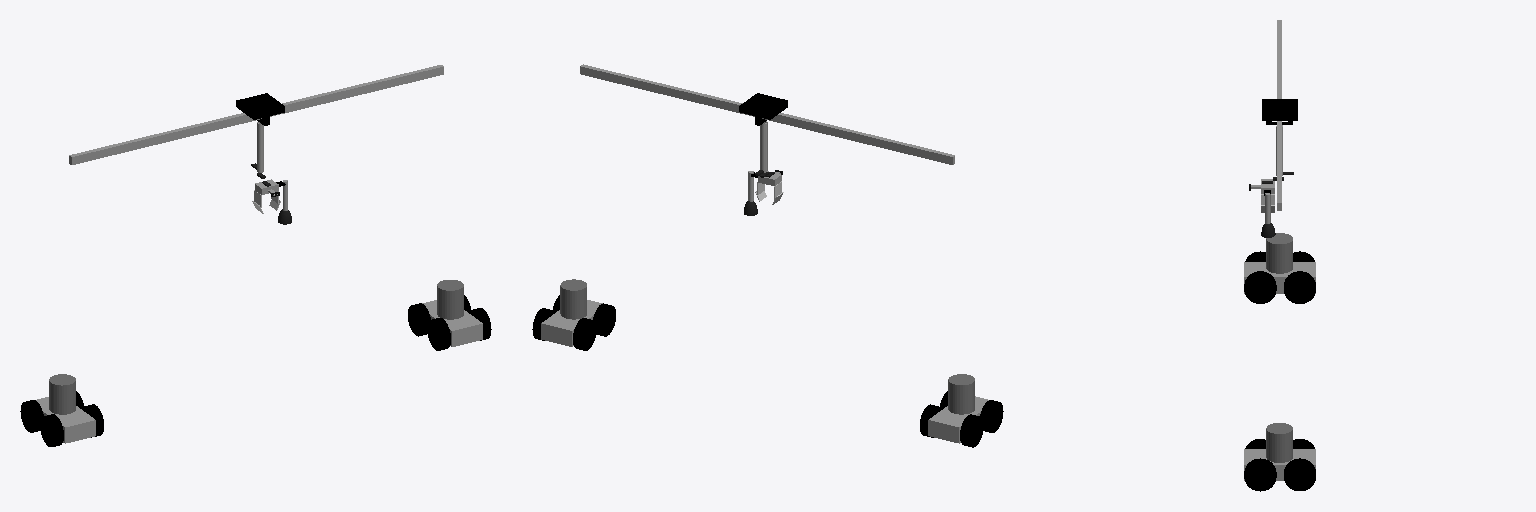
--- What the picture shows (computed from the rendered views, not written in the file) ---
3 views of the same robot in one strip: view 1: azimuth 30°, elevation 25°; view 2: azimuth 150°, elevation 25°; view 3: azimuth 270°, elevation 25° (orthographic).
Robot: bot — 50 links, 49 joints (1 revolute, 10 continuous, 5 prismatic, 33 fixed); root link Untitled.052; default pose: every joint at zero.
Visible links, largest first — view 1: Untitled.052, Untitled.004, Untitled.009, Untitled.046, Untitled.045, Untitled.026, Untitled.008, Untitled.017, Untitled.007, Untitled.011; view 2: Untitled.052, Untitled.004, Untitled.009, Untitled.046, Untitled.045, Untitled.026, Untitled.007, Untitled.011, Untitled.008, Untitled.017; view 3: Untitled.045, Untitled.046, Untitled.005, Untitled.015, Untitled.006, Untitled.013, Untitled.052, Untitled.026, Untitled.004, Untitled.009.
Boxes of the visible links, x1,y1,x2,y2 form: Untitled.052: (69,65,443,164); Untitled.004: (36,397,95,443); Untitled.009: (422,300,482,346); Untitled.046: (49,374,75,414); Untitled.045: (437,280,463,319); Untitled.026: (236,93,284,119); Untitled.008: (40,414,63,446); Untitled.017: (427,318,450,350); Untitled.007: (20,400,43,432); Untitled.011: (408,303,430,336); Untitled.052: (580,64,954,164); Untitled.004: (928,396,988,443); Untitled.009: (541,300,602,346); Untitled.046: (948,374,974,414); Untitled.045: (560,279,586,319); Untitled.026: (739,93,787,119); Untitled.007: (960,414,983,447); Untitled.011: (573,318,596,350); Untitled.008: (980,400,1003,432); Untitled.017: (593,303,615,336); Untitled.045: (1266,423,1292,462); Untitled.046: (1266,233,1292,273); Untitled.005: (1244,271,1276,303); Untitled.015: (1244,458,1276,491); Untitled.006: (1284,271,1315,303); Untitled.013: (1284,458,1315,490); Untitled.052: (1277,20,1281,210); Untitled.026: (1262,99,1297,120); Untitled.004: (1244,262,1315,293); Untitled.009: (1244,449,1315,480).
Size in the robot's own frame: 2.81 by 0.4022 by 1.74 metres.
Meshes: 10 distinct files referenced, 3 mesh visuals loaded (3 binary STL); not drawn: 7 (reference not matched to a file when rendering).

URDF robot description (bot):
<?xml version="1.0"?>
<!-- created with Phobos 1.0.1 "Capricious Choutengan" -->
  <robot name="bot">

    <link name="Untitled">
      <inertial>
        <origin xyz="0 0 0" rpy="0 0 0"/>
        <mass value="0.001"/>
        <inertia ixx="0.001" ixy="0" ixz="0" iyy="0.001" iyz="0" izz="0.001"/>
      </inertial>
    </link>

    <link name="Untitled.001">
      <inertial>
        <origin xyz="0 0 0" rpy="0 0 0"/>
        <mass value="0.001"/>
        <inertia ixx="0.001" ixy="0" ixz="0" iyy="0.001" iyz="0" izz="0.001"/>
      </inertial>
    </link>

    <link name="Untitled.002">
      <inertial>
        <origin xyz="0 0 0" rpy="0 0 0"/>
        <mass value="0.001"/>
        <inertia ixx="0.001" ixy="0" ixz="0" iyy="0.001" iyz="0" izz="0.001"/>
      </inertial>
    </link>

    <link name="Untitled.003">
      <inertial>
        <origin xyz="0 0 0" rpy="0 0 0"/>
        <mass value="0.001"/>
        <inertia ixx="0.001" ixy="0" ixz="0" iyy="0.001" iyz="0" izz="0.001"/>
      </inertial>
    </link>

    <link name="Untitled.004">
      <inertial>
        <origin xyz="0 0 0" rpy="0 0 0"/>
        <mass value="4.0"/>
        <inertia ixx="0.00043" ixy="0" ixz="0" iyy="0.00145" iyz="0" izz="0.06667"/>
      </inertial>
      <visual name="base link.000">
        <origin xyz="0 0 0" rpy="0 0 0"/>
        <geometry>
          <box size="0.4 0.2 0.1"/>
        </geometry>
        <material name="Material.005"/>
      </visual>
      <collision name="base link.000">
        <origin xyz="0 0 0" rpy="0 0 0"/>
        <geometry>
          <box size="0.4 0.2 0.1"/>
        </geometry>
      </collision>
    </link>

    <link name="Untitled.005">
      <inertial>
        <origin xyz="0 0 0" rpy="0 0 0"/>
        <mass value="0.25"/>
        <inertia ixx="7e-05" ixy="0" ixz="0" iyy="0.00013" iyz="0" izz="0.00056"/>
      </inertial>
      <visual name="bl Link.000">
        <origin xyz="-0.0022 0 0" rpy="-3.14159 0 0"/>
        <geometry>
          <cylinder radius="0.09" length="0.05"/>
        </geometry>
        <material name="Material.004"/>
      </visual>
      <collision name="bl Link.000">
        <origin xyz="-0.0022 0 0" rpy="-3.14159 0 0"/>
        <geometry>
          <cylinder radius="0.09" length="0.05"/>
        </geometry>
      </collision>
    </link>

    <link name="Untitled.006">
      <inertial>
        <origin xyz="0 0 0" rpy="0 0 0"/>
        <mass value="0.25"/>
        <inertia ixx="7e-05" ixy="0" ixz="0" iyy="0.00013" iyz="0" izz="0.00056"/>
      </inertial>
      <visual name="bl Link.002.000">
        <origin xyz="-0.0022 0 0" rpy="-3.14159 0 0"/>
        <geometry>
          <cylinder radius="0.09" length="0.05"/>
        </geometry>
        <material name="Material.001"/>
      </visual>
      <collision name="bl Link.002.000">
        <origin xyz="-0.0022 0 0" rpy="-3.14159 0 0"/>
        <geometry>
          <cylinder radius="0.09" length="0.05"/>
        </geometry>
      </collision>
    </link>

    <link name="Untitled.007">
      <inertial>
        <origin xyz="0 0 0" rpy="0 0 0"/>
        <mass value="0.25"/>
        <inertia ixx="7e-05" ixy="0" ixz="0" iyy="0.00013" iyz="0" izz="0.00056"/>
      </inertial>
      <visual name="bl Link.003.000">
        <origin xyz="-0.0022 0 0" rpy="0 0 0"/>
        <geometry>
          <cylinder radius="0.09" length="0.05"/>
        </geometry>
        <material name="Material.002"/>
      </visual>
      <collision name="bl Link.003.000">
        <origin xyz="-0.0022 0 0" rpy="0 0 0"/>
        <geometry>
          <cylinder radius="0.09" length="0.05"/>
        </geometry>
      </collision>
    </link>

    <link name="Untitled.008">
      <inertial>
        <origin xyz="0 0 0" rpy="0 0 0"/>
        <mass value="0.25"/>
        <inertia ixx="7e-05" ixy="0" ixz="0" iyy="0.00013" iyz="0" izz="0.00056"/>
      </inertial>
      <visual name="bl Link.001.000">
        <origin xyz="-0.0022 0 0" rpy="0 0 0"/>
        <geometry>
          <cylinder radius="0.09" length="0.05"/>
        </geometry>
        <material name="Material.003"/>
      </visual>
      <collision name="bl Link.001.000">
        <origin xyz="-0.0022 0 0" rpy="0 0 0"/>
        <geometry>
          <cylinder radius="0.09" length="0.05"/>
        </geometry>
      </collision>
    </link>

    <link name="Untitled.009">
      <inertial>
        <origin xyz="0 0 0" rpy="0 0 0"/>
        <mass value="4.0"/>
        <inertia ixx="0.00043" ixy="0" ixz="0" iyy="0.00145" iyz="0" izz="0.06667"/>
      </inertial>
      <visual name="base link.001">
        <origin xyz="0 0 0" rpy="0 0 0"/>
        <geometry>
          <box size="0.4 0.2 0.1"/>
        </geometry>
        <material name="Material.005"/>
      </visual>
      <collision name="base link.000">
        <origin xyz="0 0 0" rpy="0 0 0"/>
        <geometry>
          <box size="0.4 0.2 0.1"/>
        </geometry>
      </collision>
    </link>

    <link name="Untitled.010">
      <inertial>
        <origin xyz="0 0 0" rpy="0 0 0"/>
        <mass value="0.001"/>
        <inertia ixx="0.001" ixy="0" ixz="0" iyy="0.001" iyz="0" izz="0.001"/>
      </inertial>
    </link>

    <link name="Untitled.011">
      <inertial>
        <origin xyz="0 0 0" rpy="0 0 0"/>
        <mass value="0.25"/>
        <inertia ixx="7e-05" ixy="0" ixz="0" iyy="0.00013" iyz="0" izz="0.00056"/>
      </inertial>
      <visual name="bl Link.003.001">
        <origin xyz="-0.0022 0 0" rpy="0 0 0"/>
        <geometry>
          <cylinder radius="0.09" length="0.05"/>
        </geometry>
        <material name="Material.002"/>
      </visual>
      <collision name="bl Link.003.000">
        <origin xyz="-0.0022 0 0" rpy="0 0 0"/>
        <geometry>
          <cylinder radius="0.09" length="0.05"/>
        </geometry>
      </collision>
    </link>

    <link name="Untitled.012">
      <inertial>
        <origin xyz="0 0 0" rpy="0 0 0"/>
        <mass value="0.001"/>
        <inertia ixx="0.001" ixy="0" ixz="0" iyy="0.001" iyz="0" izz="0.001"/>
      </inertial>
    </link>

    <link name="Untitled.013">
      <inertial>
        <origin xyz="0 0 0" rpy="0 0 0"/>
        <mass value="0.25"/>
        <inertia ixx="7e-05" ixy="0" ixz="0" iyy="0.00013" iyz="0" izz="0.00056"/>
      </inertial>
      <visual name="bl Link.002.001">
        <origin xyz="-0.0022 0 0" rpy="-3.14159 0 0"/>
        <geometry>
          <cylinder radius="0.09" length="0.05"/>
        </geometry>
        <material name="Material.001"/>
      </visual>
      <collision name="bl Link.002.000">
        <origin xyz="-0.0022 0 0" rpy="-3.14159 0 0"/>
        <geometry>
          <cylinder radius="0.09" length="0.05"/>
        </geometry>
      </collision>
    </link>

    <link name="Untitled.014">
      <inertial>
        <origin xyz="0 0 0" rpy="0 0 0"/>
        <mass value="0.001"/>
        <inertia ixx="0.001" ixy="0" ixz="0" iyy="0.001" iyz="0" izz="0.001"/>
      </inertial>
    </link>

    <link name="Untitled.015">
      <inertial>
        <origin xyz="0 0 0" rpy="0 0 0"/>
        <mass value="0.25"/>
        <inertia ixx="7e-05" ixy="0" ixz="0" iyy="0.00013" iyz="0" izz="0.00056"/>
      </inertial>
      <visual name="bl Link.001">
        <origin xyz="-0.0022 0 0" rpy="-3.14159 0 0"/>
        <geometry>
          <cylinder radius="0.09" length="0.05"/>
        </geometry>
        <material name="Material.004"/>
      </visual>
      <collision name="bl Link.000">
        <origin xyz="-0.0022 0 0" rpy="-3.14159 0 0"/>
        <geometry>
          <cylinder radius="0.09" length="0.05"/>
        </geometry>
      </collision>
    </link>

    <link name="Untitled.016">
      <inertial>
        <origin xyz="0 0 0" rpy="0 0 0"/>
        <mass value="0.001"/>
        <inertia ixx="0.001" ixy="0" ixz="0" iyy="0.001" iyz="0" izz="0.001"/>
      </inertial>
    </link>

    <link name="Untitled.017">
      <inertial>
        <origin xyz="0 0 0" rpy="0 0 0"/>
        <mass value="0.25"/>
        <inertia ixx="7e-05" ixy="0" ixz="0" iyy="0.00013" iyz="0" izz="0.00056"/>
      </inertial>
      <visual name="bl Link.001.001">
        <origin xyz="-0.0022 0 0" rpy="0 0 0"/>
        <geometry>
          <cylinder radius="0.09" length="0.05"/>
        </geometry>
        <material name="Material.003"/>
      </visual>
      <collision name="bl Link.001.000">
        <origin xyz="-0.0022 0 0" rpy="0 0 0"/>
        <geometry>
          <cylinder radius="0.09" length="0.05"/>
        </geometry>
      </collision>
    </link>

    <link name="Untitled.021">
      <inertial>
        <origin xyz="0 0 0.01" rpy="0 0 0"/>
        <mass value="0.01"/>
        <inertia ixx="2e-05" ixy="0" ixz="0" iyy="2e-05" iyz="0" izz="2e-05"/>
      </inertial>
      <visual name="Cube.003">
        <origin xyz="0 0 0.01" rpy="0 0 0"/>
        <geometry>
          <box size="0.15 0.03 0.01"/>
        </geometry>
        <material name="Material.009"/>
      </visual>
      <collision name="Cube.003">
        <origin xyz="0 0 0.01" rpy="0 0 0"/>
        <geometry>
          <box size="0.15 0.03 0.01"/>
        </geometry>
      </collision>
    </link>

    <link name="Untitled.022">
      <inertial>
        <origin xyz="0 0 0" rpy="0 0 0"/>
        <mass value="0.05"/>
        <inertia ixx="2e-05" ixy="0" ixz="0" iyy="2e-05" iyz="0" izz="2e-05"/>
      </inertial>
      <visual name="Cube.002">
        <origin xyz="0 0 0" rpy="0 0 0"/>
        <geometry>
          <box size="0.03 0.03 0.06"/>
        </geometry>
        <material name="Material.010"/>
      </visual>
      <collision name="Cube.002">
        <origin xyz="0 0 0" rpy="0 0 0"/>
        <geometry>
          <box size="0.03 0.03 0.06"/>
        </geometry>
      </collision>
    </link>

    <link name="Untitled.023">
      <inertial>
        <origin xyz="0 0 0" rpy="0 0 0"/>
        <mass value="0.05"/>
        <inertia ixx="2e-05" ixy="0" ixz="0" iyy="2e-05" iyz="0" izz="2e-05"/>
      </inertial>
      <visual name="Cube.001">
        <origin xyz="0 0 0" rpy="0 0 0"/>
        <geometry>
          <box size="0.03 0.03 0.06"/>
        </geometry>
        <material name="Material.010"/>
      </visual>
      <collision name="Cube.001">
        <origin xyz="0 0 0" rpy="0 0 0"/>
        <geometry>
          <box size="0.03 0.03 0.06"/>
        </geometry>
      </collision>
    </link>

    <link name="Untitled.024">
      <inertial>
        <origin xyz="0 0 0" rpy="0 0 0"/>
        <mass value="0.001"/>
        <inertia ixx="0.001" ixy="0" ixz="0" iyy="0.001" iyz="0" izz="0.001"/>
      </inertial>
    </link>

    <link name="Untitled.025">
      <inertial>
        <origin xyz="0 0 0" rpy="0 0 0"/>
        <mass value="0.001"/>
        <inertia ixx="0.001" ixy="0" ixz="0" iyy="0.001" iyz="0" izz="0.001"/>
      </inertial>
    </link>

    <link name="Untitled.026">
      <inertial>
        <origin xyz="0 0 0" rpy="0 0 0"/>
        <mass value="0.5"/>
        <inertia ixx="2e-05" ixy="0" ixz="0" iyy="2e-05" iyz="0" izz="2e-05"/>
      </inertial>
      <visual name="Cube">
        <origin xyz="0 0 0" rpy="-1.5708 0 0"/>
        <geometry>
          <box size="0.2 0.2 0.04"/>
        </geometry>
        <material name="Material.008"/>
      </visual>
      <collision name="Cube">
        <origin xyz="0 0 0" rpy="-1.5708 0 0"/>
        <geometry>
          <box size="0.2 0.2 0.04"/>
        </geometry>
      </collision>
    </link>

    <link name="Untitled.027">
      <inertial>
        <origin xyz="0 0 0" rpy="0 0 0"/>
        <mass value="0.5"/>
        <inertia ixx="0.00286" ixy="0" ixz="0" iyy="0.00286" iyz="0" izz="0.0001"/>
      </inertial>
      <visual name="base link">
        <origin xyz="0 0 0" rpy="0 0 0"/>
        <geometry>
          <mesh filename="base link.006.stl" scale="1.0 1.0 1.0"/>
        </geometry>
        <material name="Material.011"/>
      </visual>
      <collision name="base link.000.001.002">
        <origin xyz="0 0.00061 0" rpy="0 0 0"/>
        <geometry>
          <mesh filename="base link.009.stl" scale="1.0 1.0 1.0"/>
        </geometry>
      </collision>
    </link>

    <link name="Untitled.028">
      <inertial>
        <origin xyz="0 0 0.02952" rpy="0 0 0"/>
        <mass value="0.5"/>
        <inertia ixx="0.00377" ixy="0" ixz="0" iyy="0.00377" iyz="0" izz="4e-05"/>
      </inertial>
      <visual name="inner Link">
        <origin xyz="0 0 0.02952" rpy="0 0 0"/>
        <geometry>
          <mesh filename="inner Link.stl" scale="1.0 1.0 1.0"/>
        </geometry>
        <material name="Material.012"/>
      </visual>
      <collision name="inner Link.000">
        <origin xyz="0 0 0.02952" rpy="0 0 0"/>
        <geometry>
          <mesh filename="inner Link.003.stl" scale="1.0 1.0 1.0"/>
        </geometry>
      </collision>
    </link>

    <link name="Untitled.029">
      <inertial>
        <origin xyz="0 0 0" rpy="0 0 0"/>
        <mass value="0.1"/>
        <inertia ixx="2e-05" ixy="0" ixz="0" iyy="2e-05" iyz="0" izz="2e-05"/>
      </inertial>
      <visual name="Cube.004">
        <origin xyz="0 0 0" rpy="0 0 0"/>
        <geometry>
          <box size="0.06 0.026 0.01"/>
        </geometry>
        <material name="Material.013"/>
      </visual>
      <collision name="Cube.004">
        <origin xyz="0 0 0" rpy="0 0 0"/>
        <geometry>
          <box size="0.06 0.026 0.01"/>
        </geometry>
      </collision>
    </link>

    <link name="Untitled.030">
      <inertial>
        <origin xyz="0 0 0" rpy="0 0 0"/>
        <mass value="0.5"/>
        <inertia ixx="0.00286" ixy="0" ixz="0" iyy="0.00286" iyz="0" izz="0.0001"/>
      </inertial>
      <visual name="base link.003">
        <origin xyz="0 0 0" rpy="0 0 0"/>
        <geometry>
          <mesh filename="base link.007.stl" scale="1.0 1.0 1.0"/>
        </geometry>
        <material name="Material.014"/>
      </visual>
      <collision name="base link.003.000">
        <origin xyz="0 0 0" rpy="0 0 0"/>
        <geometry>
          <mesh filename="base link.010.stl" scale="1.0 1.0 1.0"/>
        </geometry>
      </collision>
    </link>

    <link name="Untitled.031">
      <inertial>
        <origin xyz="0 0 0" rpy="0 0 0"/>
        <mass value="0.5"/>
        <inertia ixx="0.00377" ixy="0" ixz="0" iyy="0.00377" iyz="0" izz="4e-05"/>
      </inertial>
      <visual name="inner Link.001">
        <origin xyz="0 0 0" rpy="0 0 0"/>
        <geometry>
          <mesh filename="inner Link.001.stl" scale="1.0 1.0 1.0"/>
        </geometry>
        <material name="Material.015"/>
      </visual>
      <collision name="inner Link.001.000">
        <origin xyz="0 0 0" rpy="0 0 0"/>
        <geometry>
          <mesh filename="inner Link.004.stl" scale="1.0 1.0 1.0"/>
        </geometry>
      </collision>
    </link>

    <link name="Untitled.032">
      <inertial>
        <origin xyz="0 0 0" rpy="0 0 0"/>
        <mass value="0.1"/>
        <inertia ixx="2e-05" ixy="0" ixz="0" iyy="2e-05" iyz="0" izz="2e-05"/>
      </inertial>
      <visual name="Cube.005">
        <origin xyz="0 0 0" rpy="0 0 0"/>
        <geometry>
          <box size="0.06 0.026 0.01"/>
        </geometry>
        <material name="Material.016"/>
      </visual>
      <collision name="Cube.005">
        <origin xyz="0 0 0" rpy="0 0 0"/>
        <geometry>
          <box size="0.06 0.026 0.01"/>
        </geometry>
      </collision>
    </link>

    <link name="Untitled.033">
      <inertial>
        <origin xyz="0 0 0" rpy="0 0 0"/>
        <mass value="0.5"/>
        <inertia ixx="0.00286" ixy="0" ixz="0" iyy="0.00286" iyz="0" izz="0.0001"/>
      </inertial>
      <visual name="base link.004">
        <origin xyz="0 0 0" rpy="0 0 0"/>
        <geometry>
          <mesh filename="base link.008.stl" scale="1.0 1.0 1.0"/>
        </geometry>
        <material name="Material.017"/>
      </visual>
      <collision name="base link.004.000">
        <origin xyz="0 0 0" rpy="0 0 0"/>
        <geometry>
          <mesh filename="base link.011.stl" scale="1.0 1.0 1.0"/>
        </geometry>
      </collision>
    </link>

    <link name="Untitled.034">
      <inertial>
        <origin xyz="0 0 0" rpy="0 0 0"/>
        <mass value="0.5"/>
        <inertia ixx="0.00377" ixy="0" ixz="0" iyy="0.00377" iyz="0" izz="4e-05"/>
      </inertial>
      <visual name="inner Link.002">
        <origin xyz="0 0 0" rpy="0 0 0"/>
        <geometry>
          <mesh filename="inner Link.002.stl" scale="1.0 1.0 1.0"/>
        </geometry>
        <material name="Material.018"/>
      </visual>
      <collision name="inner Link.002.000">
        <origin xyz="0 0 0" rpy="0 0 0"/>
        <geometry>
          <mesh filename="inner Link.005.stl" scale="1.0 1.0 1.0"/>
        </geometry>
      </collision>
    </link>

    <link name="Untitled.035">
      <inertial>
        <origin xyz="0 0 0" rpy="0 0 0"/>
        <mass value="0.1"/>
        <inertia ixx="2e-05" ixy="0" ixz="0" iyy="2e-05" iyz="0" izz="2e-05"/>
      </inertial>
      <visual name="Cube.006">
        <origin xyz="0 0 0" rpy="0 0 0"/>
        <geometry>
          <box size="0.06 0.026 0.01"/>
        </geometry>
        <material name="Material.019"/>
      </visual>
      <collision name="Cube.006">
        <origin xyz="0 0 0" rpy="0 0 0"/>
        <geometry>
          <box size="0.06 0.026 0.01"/>
        </geometry>
      </collision>
    </link>

    <link name="Untitled.036">
      <inertial>
        <origin xyz="0 0 0" rpy="0 0 0"/>
        <mass value="0.3"/>
        <inertia ixx="2e-05" ixy="0" ixz="0" iyy="2e-05" iyz="0" izz="2e-05"/>
      </inertial>
      <visual name="Cube.007">
        <origin xyz="0 0 0" rpy="0 0 0"/>
        <geometry>
          <box size="0.08 0.11 0.04"/>
        </geometry>
        <material name="Material.020"/>
      </visual>
      <collision name="Cube.007">
        <origin xyz="0 0 0" rpy="0 0 0"/>
        <geometry>
          <box size="0.06 0.055 0.04"/>
        </geometry>
      </collision>
    </link>

    <link name="Untitled.037">
      <inertial>
        <origin xyz="0 0 0" rpy="0 0 0"/>
        <mass value="0.01"/>
        <inertia ixx="2e-05" ixy="0" ixz="0" iyy="2e-05" iyz="0" izz="2e-05"/>
      </inertial>
      <visual name="Cube.009">
        <origin xyz="0 0 0" rpy="0 0 0"/>
        <geometry>
          <box size="0.08 0.005 0.06"/>
        </geometry>
        <material name="Material.021"/>
      </visual>
      <collision name="Cube.009">
        <origin xyz="0 0 0" rpy="0 0 0"/>
        <geometry>
          <box size="0.08 0.005 0.06"/>
        </geometry>
      </collision>
    </link>

    <link name="Untitled.038">
      <inertial>
        <origin xyz="0 0 0" rpy="0 0 0"/>
        <mass value="0.05"/>
        <inertia ixx="2e-05" ixy="0" ixz="0" iyy="2e-05" iyz="0" izz="2e-05"/>
      </inertial>
      <visual name="Cube.008">
        <origin xyz="0 0 0" rpy="-1.5708 0 0"/>
        <geometry>
          <box size="0.08 0.005 0.08"/>
        </geometry>
        <material name="Material.022"/>
      </visual>
      <collision name="Cube.008">
        <origin xyz="0 0 0" rpy="-1.5708 0 0"/>
        <geometry>
          <box size="0.08 0.005 0.08"/>
        </geometry>
      </collision>
    </link>

    <link name="Untitled.039">
      <inertial>
        <origin xyz="0 0 0" rpy="0 0 0"/>
        <mass value="0.01"/>
        <inertia ixx="2e-05" ixy="0" ixz="0" iyy="2e-05" iyz="0" izz="2e-05"/>
      </inertial>
      <visual name="Cube.011">
        <origin xyz="0 0 0" rpy="0 0 0"/>
        <geometry>
          <box size="0.08 0.005 0.06"/>
        </geometry>
        <material name="Material.024"/>
      </visual>
      <collision name="Cube.011">
        <origin xyz="0 0 0" rpy="0 0 0"/>
        <geometry>
          <box size="0.08 0.005 0.06"/>
        </geometry>
      </collision>
    </link>

    <link name="Untitled.040">
      <inertial>
        <origin xyz="0 0 0" rpy="0 0 0"/>
        <mass value="0.05"/>
        <inertia ixx="2e-05" ixy="0" ixz="0" iyy="2e-05" iyz="0" izz="2e-05"/>
      </inertial>
      <visual name="Cube.010">
        <origin xyz="0 0 0" rpy="1.5708 0 0"/>
        <geometry>
          <box size="0.08 0.005 0.08"/>
        </geometry>
        <material name="Material.023"/>
      </visual>
      <collision name="Cube.010">
        <origin xyz="0 0 0" rpy="1.5708 0 0"/>
        <geometry>
          <box size="0.08 0.005 0.08"/>
        </geometry>
      </collision>
    </link>

    <link name="Untitled.041">
      <inertial>
        <origin xyz="0 0 0" rpy="0 0 0"/>
        <mass value="0.005"/>
        <inertia ixx="2e-05" ixy="0" ixz="0" iyy="2e-05" iyz="0" izz="2e-05"/>
      </inertial>
      <visual name="Cube.012.000">
        <origin xyz="0 0 0" rpy="0 0 0"/>
        <geometry>
          <box size="0.06 0.026 0.01"/>
        </geometry>
        <material name="Material.025"/>
      </visual>
      <collision name="Cube.012.000">
        <origin xyz="0 0 0" rpy="0 0 0"/>
        <geometry>
          <box size="0.06 0.026 0.01"/>
        </geometry>
      </collision>
    </link>

    <link name="Untitled.042">
      <inertial>
        <origin xyz="0 0 0.01" rpy="0 0 0"/>
        <mass value="0.005"/>
        <inertia ixx="2e-05" ixy="0" ixz="0" iyy="2e-05" iyz="0" izz="2e-05"/>
      </inertial>
      <visual name="Cube.013">
        <origin xyz="0 0 0.01" rpy="-1.5708 0 -1.5708"/>
        <geometry>
          <box size="0.02 0.05 0.01"/>
        </geometry>
        <material name="Material.026"/>
      </visual>
      <collision name="Cube.013">
        <origin xyz="0 0 0.01" rpy="-1.5708 0 -1.5708"/>
        <geometry>
          <box size="0.02 0.05 0.01"/>
        </geometry>
      </collision>
    </link>

    <link name="Untitled.043">
      <inertial>
        <origin xyz="0 0 0" rpy="0 0 0"/>
        <mass value="0.001"/>
        <inertia ixx="0.001" ixy="0" ixz="0" iyy="0.001" iyz="0" izz="0.001"/>
      </inertial>
      <visual name="Cylinder.001">
        <origin xyz="0 0 0" rpy="0 0 0"/>
        <geometry>
          <cylinder radius="0.005" length="0.01"/>
        </geometry>
        <material name="Material.027"/>
      </visual>
    </link>

    <link name="Untitled.044">
      <inertial>
        <origin xyz="0 0 0" rpy="0 0 0"/>
        <mass value="0.001"/>
        <inertia ixx="0.001" ixy="0" ixz="0" iyy="0.001" iyz="0" izz="0.001"/>
      </inertial>
      <visual name="Cylinder">
        <origin xyz="0 0 0" rpy="0 0 0"/>
        <geometry>
          <cylinder radius="0.005" length="0.01"/>
        </geometry>
        <material name="Material.027"/>
      </visual>
    </link>

    <link name="Untitled.045">
      <inertial>
        <origin xyz="0 0 0" rpy="0 0 0"/>
        <mass value="1.0"/>
        <inertia ixx="2e-05" ixy="0" ixz="0" iyy="1e-05" iyz="0" izz="3e-05"/>
      </inertial>
      <visual name="Cylinder.003">
        <origin xyz="0 0 0" rpy="0 0 0"/>
        <geometry>
          <cylinder radius="0.075" length="0.18"/>
        </geometry>
        <material name="Material.028"/>
      </visual>
      <collision name="Cylinder.003">
        <origin xyz="0 0 0" rpy="0 0 0"/>
        <geometry>
          <cylinder radius="0.075" length="0.18"/>
        </geometry>
      </collision>
    </link>

    <link name="Untitled.046">
      <inertial>
        <origin xyz="0 0 0" rpy="0 0 0"/>
        <mass value="1.0"/>
        <inertia ixx="2e-05" ixy="0" ixz="0" iyy="2e-05" iyz="0" izz="2e-05"/>
      </inertial>
      <visual name="Cylinder.002">
        <origin xyz="0 0 0" rpy="0 0 0"/>
        <geometry>
          <cylinder radius="0.075" length="0.18"/>
        </geometry>
        <material name="Material.028"/>
      </visual>
      <collision name="Cylinder.002.000">
        <origin xyz="0 0 0" rpy="0 0 0"/>
        <geometry>
          <mesh filename="Cylinder.020.stl" scale="1.0 1.0 1.0"/>
        </geometry>
      </collision>
    </link>

    <link name="Untitled.047">
      <inertial>
        <origin xyz="0 0 0" rpy="0 0 0"/>
        <mass value="0.01"/>
        <inertia ixx="2e-05" ixy="0" ixz="0" iyy="2e-05" iyz="0" izz="2e-05"/>
      </inertial>
      <visual name="Cube.012">
        <origin xyz="0 0 0" rpy="0 0 0"/>
        <geometry>
          <box size="0.04 0.06 0.01"/>
        </geometry>
        <material name="Material.032"/>
      </visual>
      <collision name="Cube.012">
        <origin xyz="0 0 0" rpy="0 0 0"/>
        <geometry>
          <box size="0.04 0.06 0.01"/>
        </geometry>
      </collision>
    </link>

    <link name="Untitled.048">
      <inertial>
        <origin xyz="0 -0.09 0.01" rpy="0 0 0"/>
        <mass value="0.01"/>
        <inertia ixx="2e-05" ixy="0" ixz="0" iyy="2e-05" iyz="0" izz="2e-05"/>
      </inertial>
      <visual name="Cylinder.004">
        <origin xyz="0 -0.09 0.01" rpy="-1.5708 0 0"/>
        <geometry>
          <cylinder radius="0.015" length="0.2"/>
        </geometry>
        <material name="Material.033"/>
      </visual>
      <collision name="Cylinder.004.000">
        <origin xyz="0 -0.09 0.01" rpy="-1.5708 0 0"/>
        <geometry>
          <mesh filename="Cylinder.014.stl" scale="1.0 1.0 1.0"/>
        </geometry>
      </collision>
    </link>

    <link name="Untitled.049">
      <inertial>
        <origin xyz="0 0 0" rpy="0 0 0"/>
        <mass value="0.01"/>
        <inertia ixx="2e-05" ixy="0" ixz="0" iyy="2e-05" iyz="0" izz="2e-05"/>
      </inertial>
      <visual name="Half Sphere 2">
        <origin xyz="0 0 0" rpy="0 0 0"/>
        <geometry>
          <mesh filename="Half Sphere 2.stl" scale="0.01303 0.02605 0.01303"/>
        </geometry>
        <material name="Material.034"/>
      </visual>
      <collision name="Half Sphere 2.000">
        <origin xyz="0 0 0" rpy="0 0 0"/>
        <geometry>
          <mesh filename="Half Sphere 2.001.stl" scale="1.0 1.0 1.0"/>
        </geometry>
      </collision>
    </link>

    <link name="Untitled.050">
      <inertial>
        <origin xyz="0 0 -0.74" rpy="0 0 0"/>
        <mass value="2.0"/>
        <inertia ixx="0.54185" ixy="0" ixz="0" iyy="0.54185" iyz="0" izz="0.00176"/>
      </inertial>
      <visual name="vertical rod.001">
        <origin xyz="0 0 -0.74" rpy="1.5708 0 0"/>
        <geometry>
          <mesh filename="vertical rod.001.stl" scale="1.0 1.0 1.0"/>
        </geometry>
        <material name="Material.029"/>
      </visual>
      <collision name="vertical rod.001.000">
        <origin xyz="0 0 -0.74" rpy="1.5708 0 0"/>
        <geometry>
          <mesh filename="vertical rod.002.stl" scale="1.0 1.0 1.0"/>
        </geometry>
      </collision>
    </link>

    <link name="Untitled.051">
      <inertial>
        <origin xyz="0 0 -0.74" rpy="0 0 0"/>
        <mass value="2.0"/>
        <inertia ixx="0.54185" ixy="0" ixz="0" iyy="0.54185" iyz="0" izz="0.00176"/>
      </inertial>
      <visual name="vertical rod">
        <origin xyz="0 0 -0.74" rpy="1.5708 0 0"/>
        <geometry>
          <mesh filename="vertical rod.stl" scale="1.0 1.0 1.0"/>
        </geometry>
        <material name="Material.031"/>
      </visual>
      <collision name="vertical rod.000">
        <origin xyz="0 0 -0.74" rpy="1.5708 0 0"/>
        <geometry>
          <mesh filename="vertical rod.003.stl" scale="1.0 1.0 1.0"/>
        </geometry>
      </collision>
    </link>

    <link name="Untitled.052">
      <inertial>
        <origin xyz="0 0 0" rpy="0 0 0"/>
        <mass value="2.0"/>
        <inertia ixx="1.00174" ixy="0" ixz="0" iyy="0.00057" iyz="0" izz="0.92057"/>
      </inertial>
      <visual name="horizantal rod">
        <origin xyz="0 0 0" rpy="0 0 0"/>
        <geometry>
          <mesh filename="horizantal rod.stl" scale="1.02128 1.0 1.0"/>
        </geometry>
        <material name="Material.030"/>
      </visual>
      <collision name="horizantal rod.000">
        <origin xyz="0 0 0" rpy="0 0 0"/>
        <geometry>
          <mesh filename="horizantal rod.001.stl" scale="1.0 1.0 1.0"/>
        </geometry>
      </collision>
    </link>

    <joint name="Untitled" type="fixed">
      <origin xyz="-0.11 0.06 0" rpy="1.5708 0 0"/>
      <parent link="Untitled.004"/>
      <child link="Untitled"/>
    </joint>

    <joint name="Untitled.001" type="fixed">
      <origin xyz="-0.11 -0.06 0" rpy="-1.5708 0 0"/>
      <parent link="Untitled.004"/>
      <child link="Untitled.001"/>
    </joint>

    <joint name="Untitled.002" type="fixed">
      <origin xyz="0.11 0.06 0" rpy="1.5708 0 0"/>
      <parent link="Untitled.004"/>
      <child link="Untitled.002"/>
    </joint>

    <joint name="Untitled.003" type="fixed">
      <origin xyz="0.11 -0.06 0" rpy="-1.5708 0 0"/>
      <parent link="Untitled.004"/>
      <child link="Untitled.003"/>
    </joint>

    <joint name="Untitled.004" type="fixed">
      <origin xyz="0 0 -1.575" rpy="0 0 0"/>
      <parent link="Untitled.051"/>
      <child link="Untitled.004"/>
    </joint>

    <joint name="Untitled.005" type="continuous">
      <origin xyz="0 0 -0.07" rpy="3.14159 0 0"/>
      <parent link="Untitled.002"/>
      <child link="Untitled.005"/>
      <axis xyz="0 0 1.0"/>
      <limit effort="0.1" velocity="1.5"/>
    </joint>

    <joint name="Untitled.006" type="continuous">
      <origin xyz="0 0 -0.07" rpy="3.14159 0 0"/>
      <parent link="Untitled"/>
      <child link="Untitled.006"/>
      <axis xyz="0 0 1.0"/>
      <limit effort="0.1" velocity="1.5"/>
    </joint>

    <joint name="Untitled.007" type="continuous">
      <origin xyz="0 0 -0.07" rpy="-3.14159 0 0"/>
      <parent link="Untitled.001"/>
      <child link="Untitled.007"/>
      <axis xyz="0 0 1.0"/>
      <limit effort="0.1" velocity="1.5"/>
    </joint>

    <joint name="Untitled.008" type="continuous">
      <origin xyz="0 0 -0.07" rpy="-3.14159 0 0"/>
      <parent link="Untitled.003"/>
      <child link="Untitled.008"/>
      <axis xyz="0 0 1.0"/>
      <limit effort="0.1" velocity="1.5"/>
    </joint>

    <joint name="Untitled.009" type="fixed">
      <origin xyz="0 -0.005 -1.5626" rpy="0 0 0"/>
      <parent link="Untitled.050"/>
      <child link="Untitled.009"/>
    </joint>

    <joint name="Untitled.010" type="fixed">
      <origin xyz="-0.11 -0.06 0" rpy="-1.5708 0 0"/>
      <parent link="Untitled.009"/>
      <child link="Untitled.010"/>
    </joint>

    <joint name="Untitled.011" type="continuous">
      <origin xyz="0 0 -0.07" rpy="-3.14159 0 0"/>
      <parent link="Untitled.010"/>
      <child link="Untitled.011"/>
      <axis xyz="0 0 1.0"/>
      <limit effort="0.1" velocity="1.5"/>
    </joint>

    <joint name="Untitled.012" type="fixed">
      <origin xyz="-0.11 0.06 0" rpy="1.5708 0 0"/>
      <parent link="Untitled.009"/>
      <child link="Untitled.012"/>
    </joint>

    <joint name="Untitled.013" type="continuous">
      <origin xyz="0 0 -0.07" rpy="3.14159 0 0"/>
      <parent link="Untitled.012"/>
      <child link="Untitled.013"/>
      <axis xyz="0 0 1.0"/>
      <limit effort="0.1" velocity="1.5"/>
    </joint>

    <joint name="Untitled.014" type="fixed">
      <origin xyz="0.11 0.06 0" rpy="1.5708 0 0"/>
      <parent link="Untitled.009"/>
      <child link="Untitled.014"/>
    </joint>

    <joint name="Untitled.015" type="continuous">
      <origin xyz="0 0 -0.07" rpy="3.14159 0 0"/>
      <parent link="Untitled.014"/>
      <child link="Untitled.015"/>
      <axis xyz="0 0 1.0"/>
      <limit effort="0.1" velocity="1.5"/>
    </joint>

    <joint name="Untitled.016" type="fixed">
      <origin xyz="0.11 -0.06 0" rpy="-1.5708 0 0"/>
      <parent link="Untitled.009"/>
      <child link="Untitled.016"/>
    </joint>

    <joint name="Untitled.017" type="continuous">
      <origin xyz="0 0 -0.07" rpy="-3.14159 0 0"/>
      <parent link="Untitled.016"/>
      <child link="Untitled.017"/>
      <axis xyz="0 0 1.0"/>
      <limit effort="0.1" velocity="1.5"/>
    </joint>

    <joint name="Untitled.021" type="fixed">
      <origin xyz="0.06656 -0.00819 -0.00718" rpy="0 0 0"/>
      <parent link="Untitled.024"/>
      <child link="Untitled.021"/>
    </joint>

    <joint name="Untitled.022" type="fixed">
      <origin xyz="-0.06 -0.05371 0" rpy="-1.5708 0 0"/>
      <parent link="Untitled.026"/>
      <child link="Untitled.022"/>
    </joint>

    <joint name="Untitled.023" type="fixed">
      <origin xyz="0.06 -0.05371 0" rpy="-1.5708 0 0"/>
      <parent link="Untitled.026"/>
      <child link="Untitled.023"/>
    </joint>

    <joint name="Untitled.024" type="fixed">
      <origin xyz="-0.00656 0.00819 -0.03142" rpy="0 0 0"/>
      <parent link="Untitled.022"/>
      <child link="Untitled.024"/>
    </joint>

    <joint name="Untitled.025" type="fixed">
      <origin xyz="0.00237 -0.00899 -0.03609" rpy="0 0 0"/>
      <parent link="Untitled.023"/>
      <child link="Untitled.025"/>
    </joint>

    <joint name="Untitled.026" type="prismatic">
      <origin xyz="0.025 0 0.04555" rpy="1.5708 0 -1.5708"/>
      <parent link="Untitled.052"/>
      <child link="Untitled.026"/>
      <axis xyz="0 0 1.0"/>
      <limit lower="-1.2931" upper="1.29" effort="0.1" velocity="1.0"/>
    </joint>

    <joint name="Untitled.027" type="fixed">
      <origin xyz="0.00656 -0.00819 -0.15126" rpy="0 0 0"/>
      <parent link="Untitled.024"/>
      <child link="Untitled.027"/>
    </joint>

    <joint name="Untitled.028" type="prismatic">
      <origin xyz="0 0 -0.02468" rpy="0 0 0"/>
      <parent link="Untitled.027"/>
      <child link="Untitled.028"/>
      <axis xyz="0 0 1.0"/>
      <limit lower="-1.2931" upper="1.29" effort="0.1" velocity="1.0"/>
    </joint>

    <joint name="Untitled.029" type="fixed">
      <origin xyz="0.01 0 -0.12848" rpy="0 0 0"/>
      <parent link="Untitled.028"/>
      <child link="Untitled.029"/>
    </joint>

    <joint name="Untitled.030" type="fixed">
      <origin xyz="0.05 0 0.14075" rpy="0 0 0"/>
      <parent link="Untitled.029"/>
      <child link="Untitled.030"/>
    </joint>

    <joint name="Untitled.031" type="prismatic">
      <origin xyz="0 0 -0.02247" rpy="0 0 0"/>
      <parent link="Untitled.030"/>
      <child link="Untitled.031"/>
      <axis xyz="0 0 1.0"/>
      <limit lower="-1.2931" upper="1.29" effort="0.1" velocity="1.0"/>
    </joint>

    <joint name="Untitled.032" type="fixed">
      <origin xyz="0.00738 0.0014 -0.1528" rpy="0 0 0"/>
      <parent link="Untitled.031"/>
      <child link="Untitled.032"/>
    </joint>

    <joint name="Untitled.033" type="fixed">
      <origin xyz="0.05262 -0.0014 0.13993" rpy="0 0 0"/>
      <parent link="Untitled.032"/>
      <child link="Untitled.033"/>
    </joint>

    <joint name="Untitled.034" type="prismatic">
      <origin xyz="0 0 -0.01" rpy="0 0 0"/>
      <parent link="Untitled.033"/>
      <child link="Untitled.034"/>
      <axis xyz="0 0 1.0"/>
      <limit lower="-1.2931" upper="1.29" effort="0.1" velocity="1.0"/>
    </joint>

    <joint name="Untitled.035" type="fixed">
      <origin xyz="0.00989 -0.00047 -0.15397" rpy="0 0 0"/>
      <parent link="Untitled.034"/>
      <child link="Untitled.035"/>
    </joint>

    <joint name="Untitled.036" type="continuous">
      <origin xyz="-0.00332 0.00214 -0.02292" rpy="0 0 0"/>
      <parent link="Untitled.035"/>
      <child link="Untitled.036"/>
      <axis xyz="0 0 1.0"/>
      <limit effort="0.1" velocity="1.0"/>
    </joint>

    <joint name="Untitled.037" type="fixed">
      <origin xyz="0 -0.05 0" rpy="-1.13446 0 0"/>
      <parent link="Untitled.038"/>
      <child link="Untitled.037"/>
    </joint>

    <joint name="Untitled.038" type="fixed">
      <origin xyz="0 -0.055 -0.06044" rpy="1.5708 0 0"/>
      <parent link="Untitled.036"/>
      <child link="Untitled.038"/>
    </joint>

    <joint name="Untitled.039" type="fixed">
      <origin xyz="0 0.05 0" rpy="1.13446 0 0"/>
      <parent link="Untitled.040"/>
      <child link="Untitled.039"/>
    </joint>

    <joint name="Untitled.040" type="prismatic">
      <origin xyz="0 0.055 -0.06044" rpy="-1.5708 0 0"/>
      <parent link="Untitled.036"/>
      <child link="Untitled.040"/>
      <axis xyz="0 0 1.0"/>
      <limit lower="-1.2931" upper="1.29" effort="0.1" velocity="1.0"/>
    </joint>

    <joint name="Untitled.041" type="fixed">
      <origin xyz="0.07032 -0.00214 -0.00337" rpy="0 0 0"/>
      <parent link="Untitled.036"/>
      <child link="Untitled.041"/>
    </joint>

    <joint name="Untitled.042" type="revolute">
      <origin xyz="0.03 0.01 0.00027" rpy="1.5708 0 0"/>
      <parent link="Untitled.041"/>
      <child link="Untitled.042"/>
      <axis xyz="0 0 1.0"/>
      <limit lower="-1.57" upper="0" effort="0.01" velocity="0.1"/>
    </joint>

    <joint name="Untitled.043" type="fixed">
      <origin xyz="0.002 0 0.02" rpy="-1.5708 0 -1.5708"/>
      <parent link="Untitled.042"/>
      <child link="Untitled.043"/>
    </joint>

    <joint name="Untitled.044" type="fixed">
      <origin xyz="0.002 0 0" rpy="-1.5708 0 -1.5708"/>
      <parent link="Untitled.042"/>
      <child link="Untitled.044"/>
    </joint>

    <joint name="Untitled.045" type="fixed">
      <origin xyz="0 0.005 0.1376" rpy="0 0 0"/>
      <parent link="Untitled.009"/>
      <child link="Untitled.045"/>
    </joint>

    <joint name="Untitled.046" type="fixed">
      <origin xyz="0 0 0.15" rpy="0 0 0"/>
      <parent link="Untitled.004"/>
      <child link="Untitled.046"/>
    </joint>

    <joint name="Untitled.047" type="fixed">
      <origin xyz="0 0.08 0" rpy="0 0 0"/>
      <parent link="Untitled.036"/>
      <child link="Untitled.047"/>
    </joint>

    <joint name="Untitled.048" type="continuous">
      <origin xyz="0 0.05 0.00301" rpy="1.5708 0 0"/>
      <parent link="Untitled.047"/>
      <child link="Untitled.048"/>
      <axis xyz="0 0 1.0"/>
      <limit effort="0.01" velocity="0.1"/>
    </joint>

    <joint name="Untitled.049" type="fixed">
      <origin xyz="-0.00292 -0.20261 0.01" rpy="3.14159 0 -0.01439"/>
      <parent link="Untitled.048"/>
      <child link="Untitled.049"/>
    </joint>

    <joint name="Untitled.050" type="fixed">
      <origin xyz="1.25 0 -0.005" rpy="0 0 -1.5708"/>
      <parent link="Untitled.052"/>
      <child link="Untitled.050"/>
    </joint>

    <joint name="Untitled.051" type="fixed">
      <origin xyz="-1.25 0 -0.005" rpy="0 0 -1.5708"/>
      <parent link="Untitled.052"/>
      <child link="Untitled.051"/>
    </joint>

    <material name="Material.001">
      <color rgba="0 0 0 1.0"/>
    </material>

    <material name="Material.002">
      <color rgba="0 0 0 1.0"/>
    </material>

    <material name="Material.003">
      <color rgba="0 0 0 1.0"/>
    </material>

    <material name="Material.004">
      <color rgba="0 0 0 1.0"/>
    </material>

    <material name="Material.005">
      <color rgba="0.64 0.64 0.64 1.0"/>
    </material>

    <material name="Material.008">
      <color rgba="0 0 0 1.0"/>
    </material>

    <material name="Material.009">
      <color rgba="0 0 0 1.0"/>
    </material>

    <material name="Material.010">
      <color rgba="0 0 0 1.0"/>
    </material>

    <material name="Material.011">
      <color rgba="0.64 0.64 0.64 1.0"/>
    </material>

    <material name="Material.012">
      <color rgba="0.16 0.16 0.16 1.0"/>
    </material>

    <material name="Material.013">
      <color rgba="0.16 0.16 0.16 1.0"/>
    </material>

    <material name="Material.014">
      <color rgba="0.64 0.64 0.64 1.0"/>
    </material>

    <material name="Material.015">
      <color rgba="0.16 0.16 0.16 1.0"/>
    </material>

    <material name="Material.016">
      <color rgba="0.16 0.16 0.16 1.0"/>
    </material>

    <material name="Material.017">
      <color rgba="0.64 0.64 0.64 1.0"/>
    </material>

    <material name="Material.018">
      <color rgba="0.16 0.16 0.16 1.0"/>
    </material>

    <material name="Material.019">
      <color rgba="0.16 0.16 0.16 1.0"/>
    </material>

    <material name="Material.020">
      <color rgba="0.64 0.64 0.64 1.0"/>
    </material>

    <material name="Material.021">
      <color rgba="0.76 0.76 0.76 1.0"/>
    </material>

    <material name="Material.022">
      <color rgba="0.76 0.76 0.76 1.0"/>
    </material>

    <material name="Material.023">
      <color rgba="0.76 0.76 0.76 1.0"/>
    </material>

    <material name="Material.024">
      <color rgba="0.76 0.76 0.76 1.0"/>
    </material>

    <material name="Material.025">
      <color rgba="0.64 0.64 0.64 1.0"/>
    </material>

    <material name="Material.026">
      <color rgba="0.09 0.09 0.09 1.0"/>
    </material>

    <material name="Material.027">
      <color rgba="0.76 0.76 0.76 1.0"/>
    </material>

    <material name="Material.028">
      <color rgba="0.48 0.48 0.48 1.0"/>
    </material>

    <material name="Material.029">
      <color rgba="0.64 0.64 0.64 1.0"/>
    </material>

    <material name="Material.030">
      <color rgba="0.64 0.64 0.64 1.0"/>
    </material>

    <material name="Material.031">
      <color rgba="0.64 0.64 0.64 1.0"/>
    </material>

    <material name="Material.032">
      <color rgba="0 0 0 1.0"/>
    </material>

    <material name="Material.033">
      <color rgba="0.64 0.64 0.64 1.0"/>
    </material>

    <material name="Material.034">
      <color rgba="0.16 0.16 0.16 1.0"/>
    </material>

  </robot>
